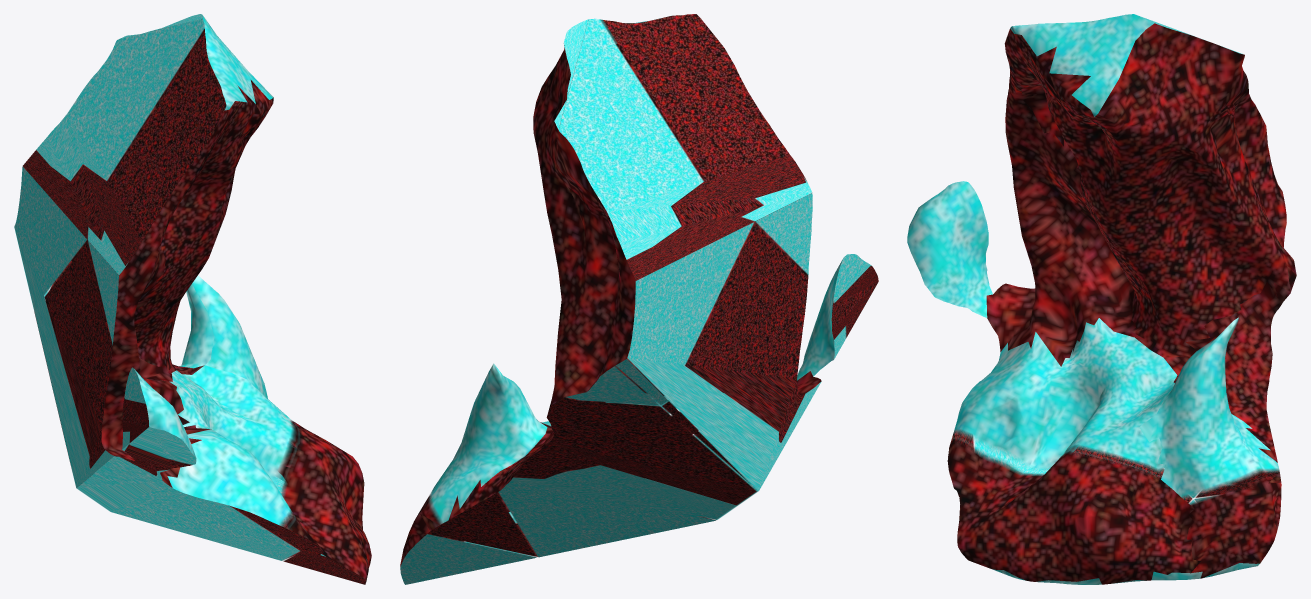
3 views of the same model, side by side, from view 1: azimuth 30°, elevation 25°; view 2: azimuth 150°, elevation 25°; view 3: azimuth 270°, elevation 25° (orthographic). The views are drawn at different scales.
Parts seen in each view (by area): view 1: SM_VFX_Withered_Spike_03_LOD0; view 2: SM_VFX_Withered_Spike_03_LOD0; view 3: SM_VFX_Withered_Spike_03_LOD0.
Boxes of the visible parts, box(x1,y1,x2,y2) form: SM_VFX_Withered_Spike_03_LOD0: box(14, 14, 371, 584); SM_VFX_Withered_Spike_03_LOD0: box(400, 14, 878, 584); SM_VFX_Withered_Spike_03_LOD0: box(907, 14, 1296, 584).
Bounding box in the file's own units: 8.03 × 13.37 × 9.15.
Materials: 1 (1 with a texture image).
